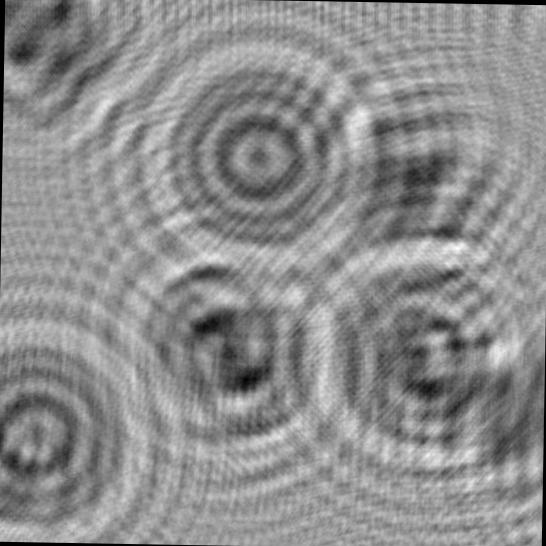G: (289, 226, 546, 506)
H: (1, 0, 187, 199)
O: (117, 11, 406, 304)
Q: (0, 287, 188, 544)
S: (104, 236, 364, 484)
V: (309, 39, 546, 301)
Y: (429, 308, 545, 546)
